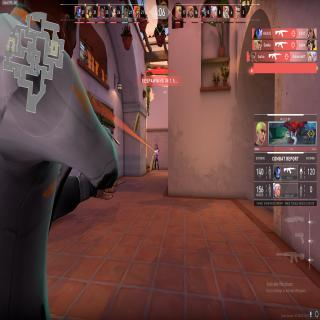ENEMY-BODY: (154, 146, 160, 170)
ENEMY-HEAD: (156, 147, 157, 150)
